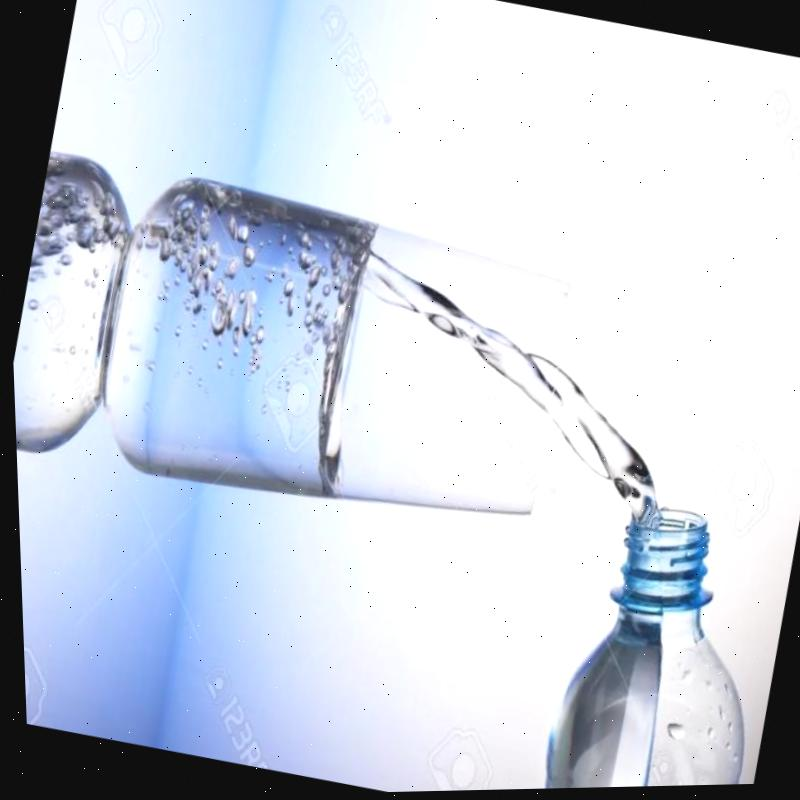botella: (517, 485, 791, 791)
